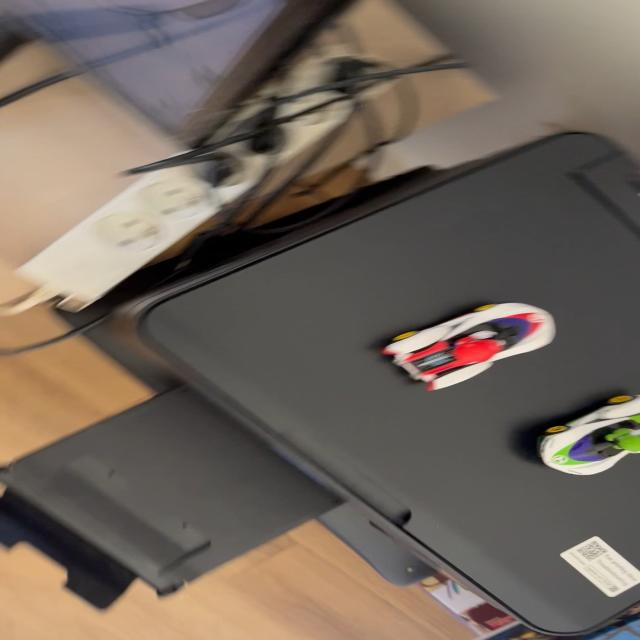mario: (365, 296, 576, 400)
yoshi: (522, 386, 638, 480)
